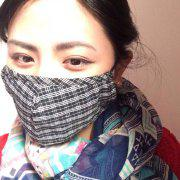OK: (6, 37, 111, 142)
